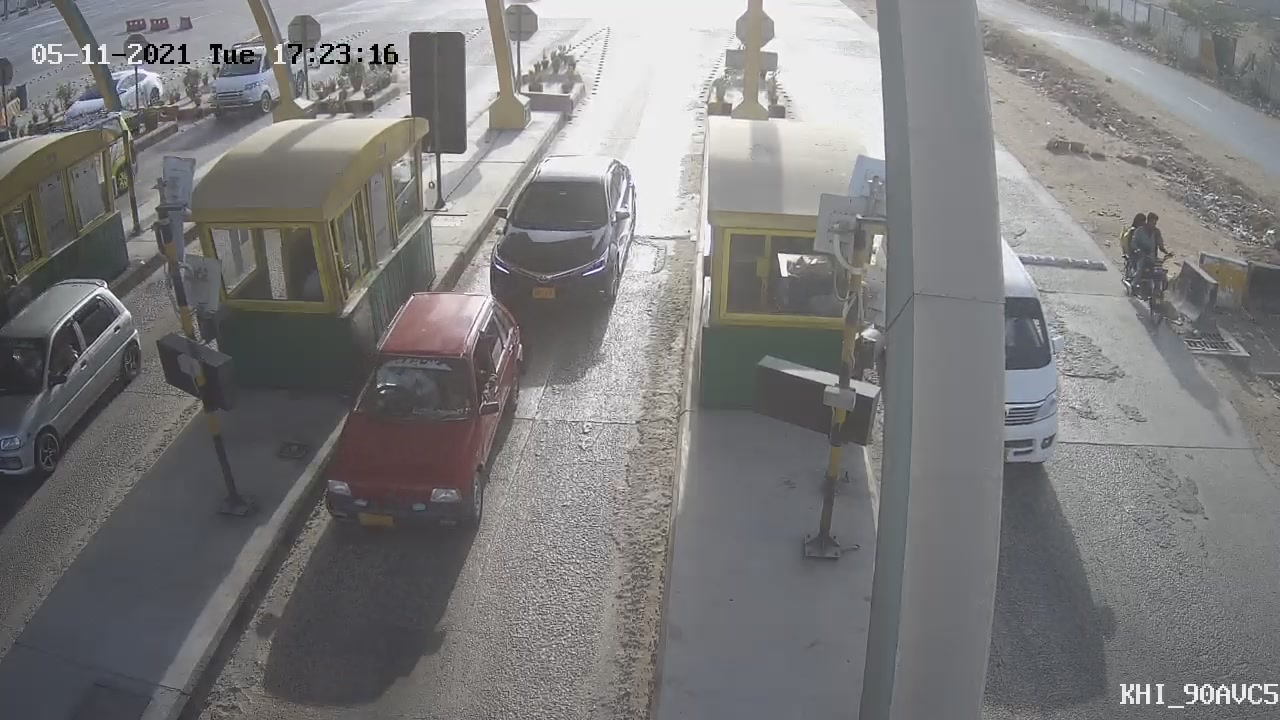F1: (289, 268, 560, 568), (465, 138, 656, 335)
